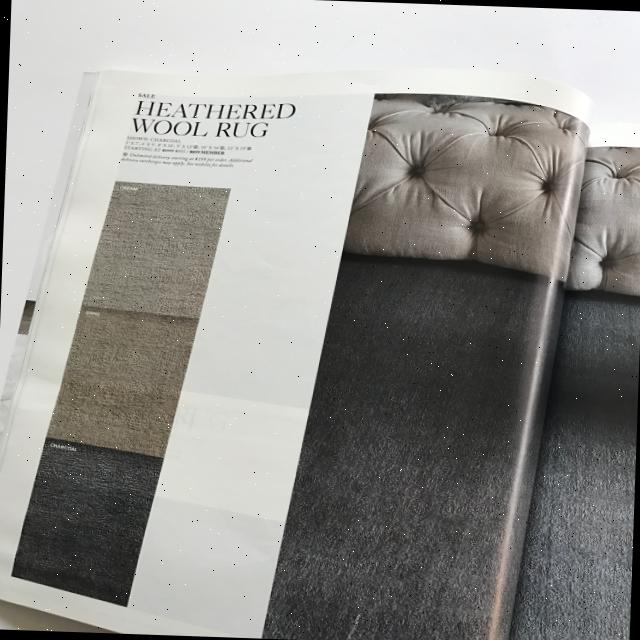paper: (0, 52, 594, 640)
